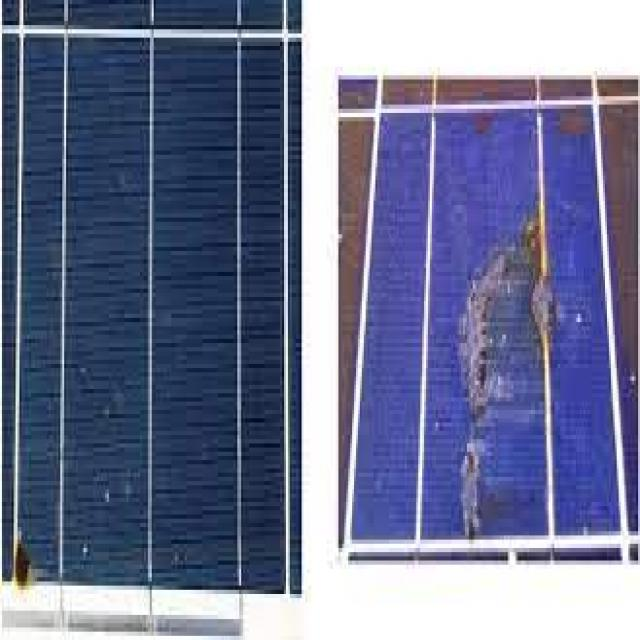faulty: (4, 7, 306, 620), (330, 73, 640, 562)
